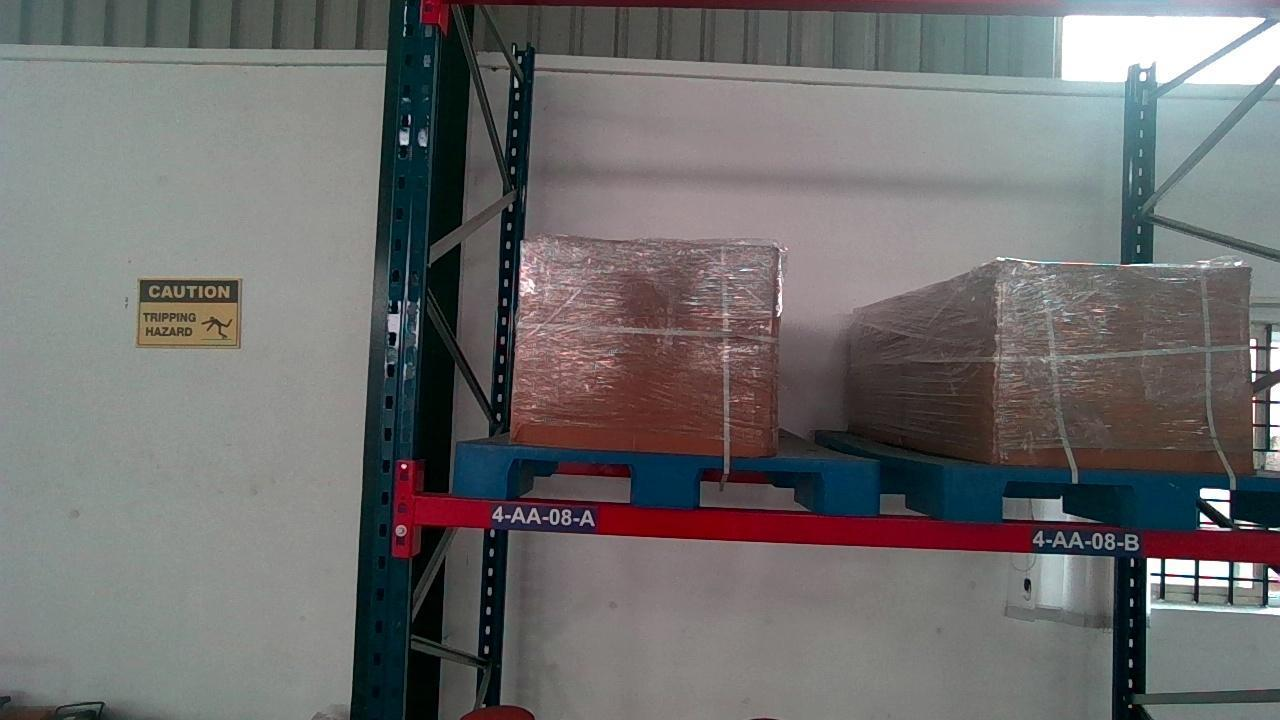h_rack: (423, 505, 1280, 554)
small_pallet: (450, 450, 877, 508), (957, 469, 1277, 525)
